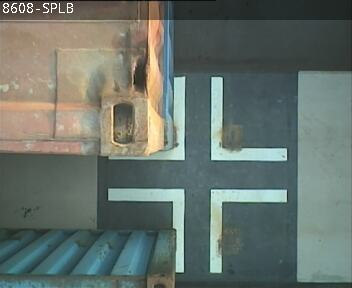groundmarker_1: (107, 187, 286, 271), (108, 78, 289, 159)
